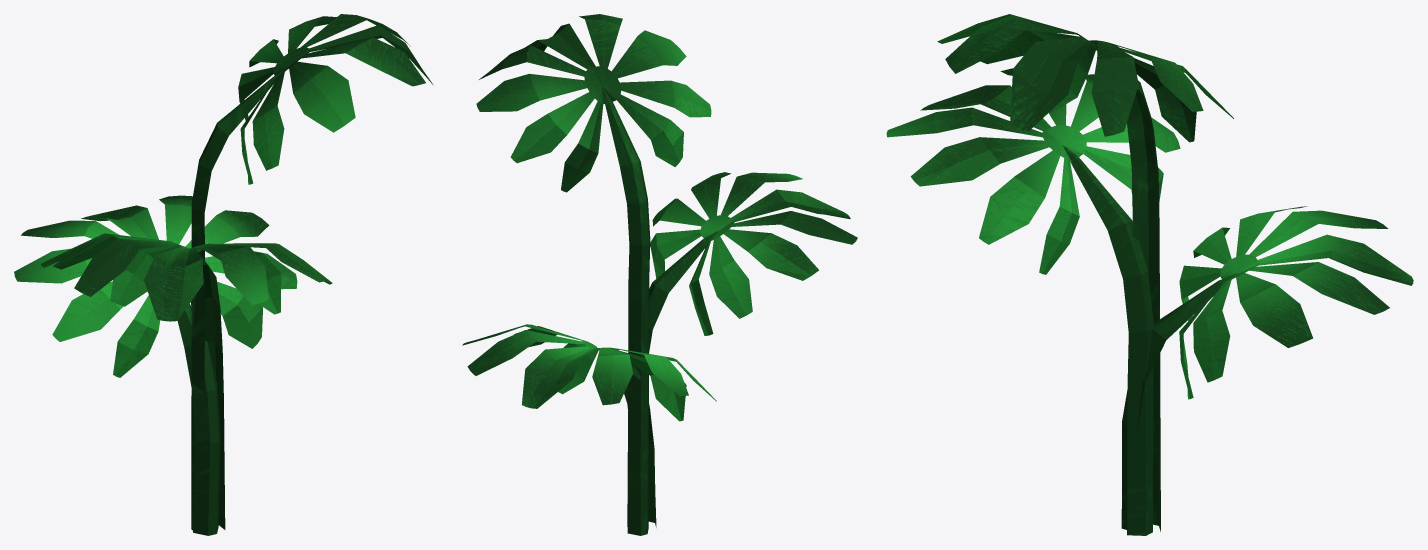
Rendered from Fern2.obj.
The picture shows the model from 3 angles, left to right: view 1: azimuth 30°, elevation 25°; view 2: azimuth 150°, elevation 25°; view 3: azimuth 270°, elevation 25°; orthographic projection. The views are drawn at different scales.
Visible parts, largest first — view 1: Sphere.001; view 2: Sphere.001; view 3: Sphere.001.
Part boxes in pixels (x1,y1,x2,y2): Sphere.001: [14, 14, 433, 535]; Sphere.001: [462, 14, 857, 535]; Sphere.001: [886, 14, 1413, 535].
Size of the model in its own units: 2.94 by 3.77 by 3.2.
